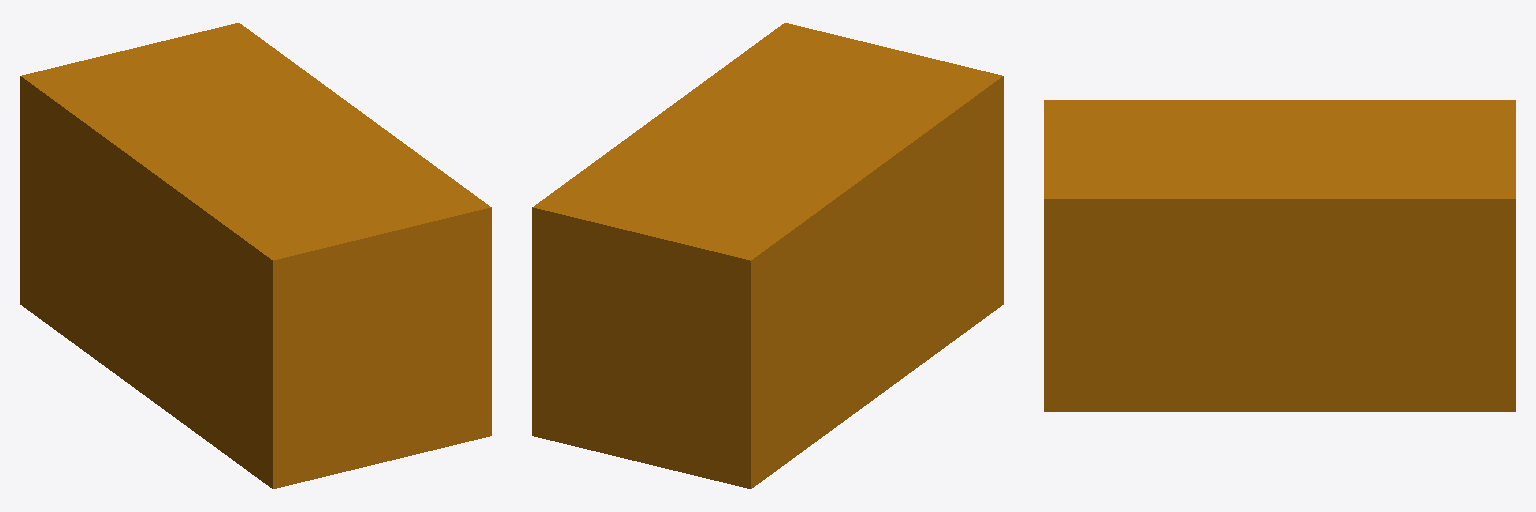
robot.urdf — brick_clone:
<robot name="brick_clone">
    <!-- control -->
    <link name="box1">
        <inertial>
            <mass value="0.5"/>
            <inertia ixx="0" ixy="0" ixz="0" iyy="0" iyz="0" izz="0"/>
        </inertial>
        <visual>
            <origin xyz="0 0 0" rpy="0 0 0"/>
            <geometry>
                <box size="0.04 0.08 0.04"/>
            </geometry>
            <material name="Red">
                <color rgba="0.7568 0.5 0.1 1.0"/>
            </material>
        </visual>
        <collision>
            <origin xyz="0 0 0" rpy="0 0 0"/>
            <geometry>
                <box size="0.04 0.08 0.04"/>
            </geometry>
        </collision> 
        <surface>
        <friction>
          <ode>
            <mu>100000.0</mu>
            <mu2>100000.0</mu2>
          </ode>
        </friction>
        <contact>
          <ode>
            <min_depth>0.003</min_depth>
          </ode>
        </contact>
      </surface>
    </link>
</robot>

--- What the picture shows (computed from the rendered views, not written in the file) ---
3 views of the same robot in one strip: view 1: azimuth 30°, elevation 25°; view 2: azimuth 150°, elevation 25°; view 3: azimuth 270°, elevation 25° (orthographic).
Model brick_clone with 1 links and 0 joints (none), rooted at box1, posed every joint at zero.
Visible links, largest first — view 1: box1; view 2: box1; view 3: box1.
Boxes of the visible links, box(x1,y1,x2,y2) form: box1: box(20, 23, 491, 488); box1: box(532, 23, 1003, 488); box1: box(1044, 100, 1515, 411).
Size in the robot's own frame: 0.04 by 0.08 by 0.04 metres.
Geometry: primitives only (box / cylinder / sphere), no mesh files.